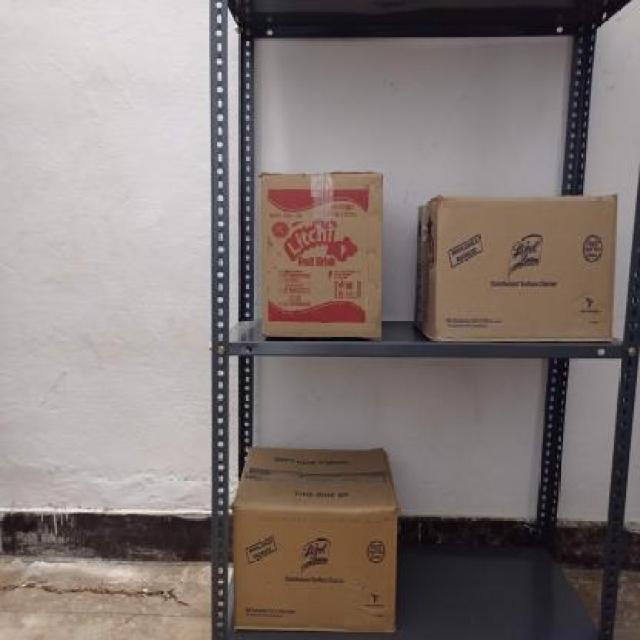box: (430, 192, 616, 346), (258, 172, 386, 336), (234, 511, 403, 627)
